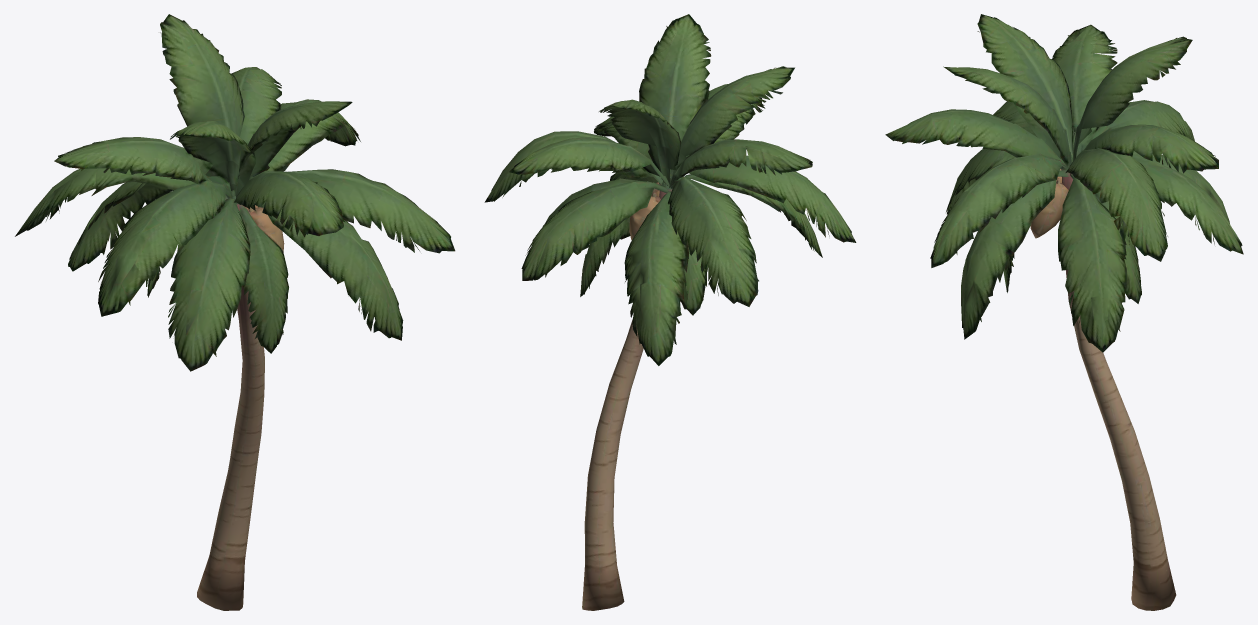
File: palm.glb
The picture shows the model from 3 angles, left to right: view 1: azimuth 30°, elevation 25°; view 2: azimuth 150°, elevation 25°; view 3: azimuth 270°, elevation 25°; orthographic projection. The views are drawn at different scales.
Parts seen in each view (by area): view 1: tripo_node_51ba703b-f42c-4c92-b788-e1e279e1fcdd; view 2: tripo_node_51ba703b-f42c-4c92-b788-e1e279e1fcdd; view 3: tripo_node_51ba703b-f42c-4c92-b788-e1e279e1fcdd.
Part boxes in pixels (left/top/right/bottom): tripo_node_51ba703b-f42c-4c92-b788-e1e279e1fcdd: left=15, top=14, right=455, bottom=610; tripo_node_51ba703b-f42c-4c92-b788-e1e279e1fcdd: left=484, top=14, right=856, bottom=610; tripo_node_51ba703b-f42c-4c92-b788-e1e279e1fcdd: left=885, top=14, right=1243, bottom=610.
Size of the model in its own units: 0.5918 by 0.998 by 0.5918.
Materials: 1 (1 with a texture image).
